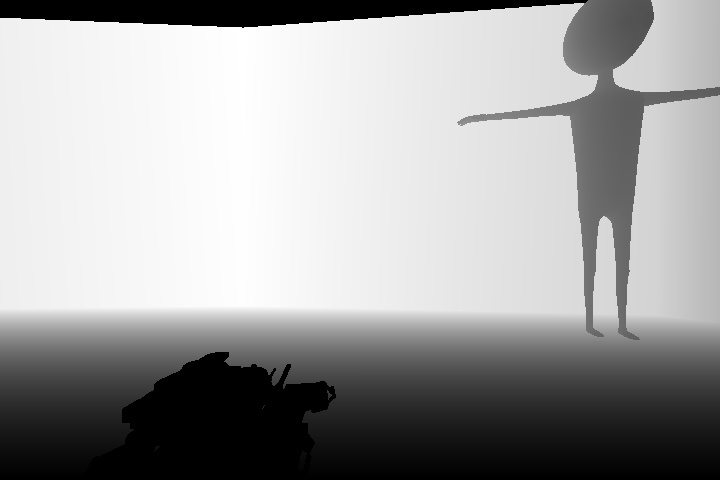alien: (454, 1, 720, 343)
